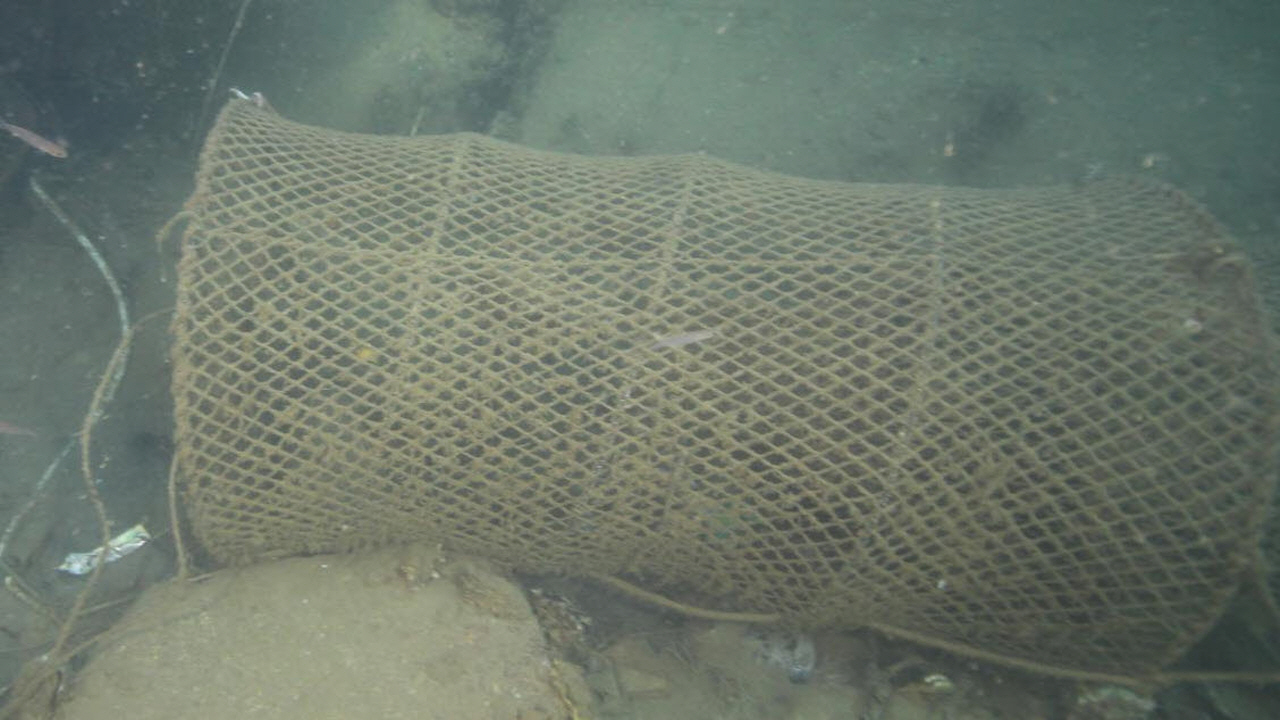spring fish trap: (168, 95, 1279, 687)
